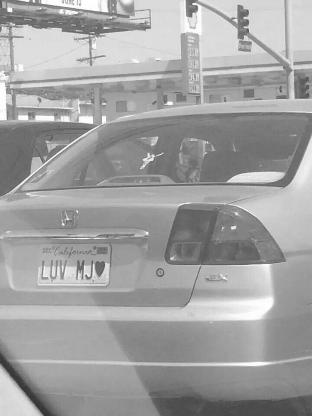license plate: (30, 236, 120, 292)
